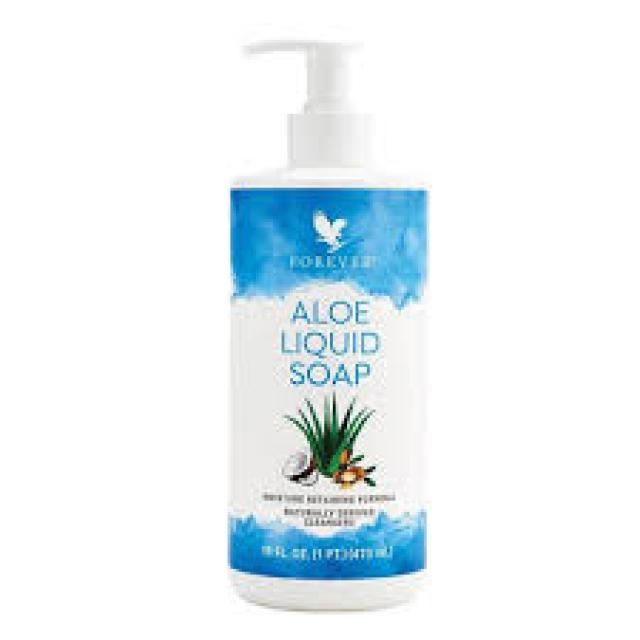liquid soap: (223, 31, 439, 620)
